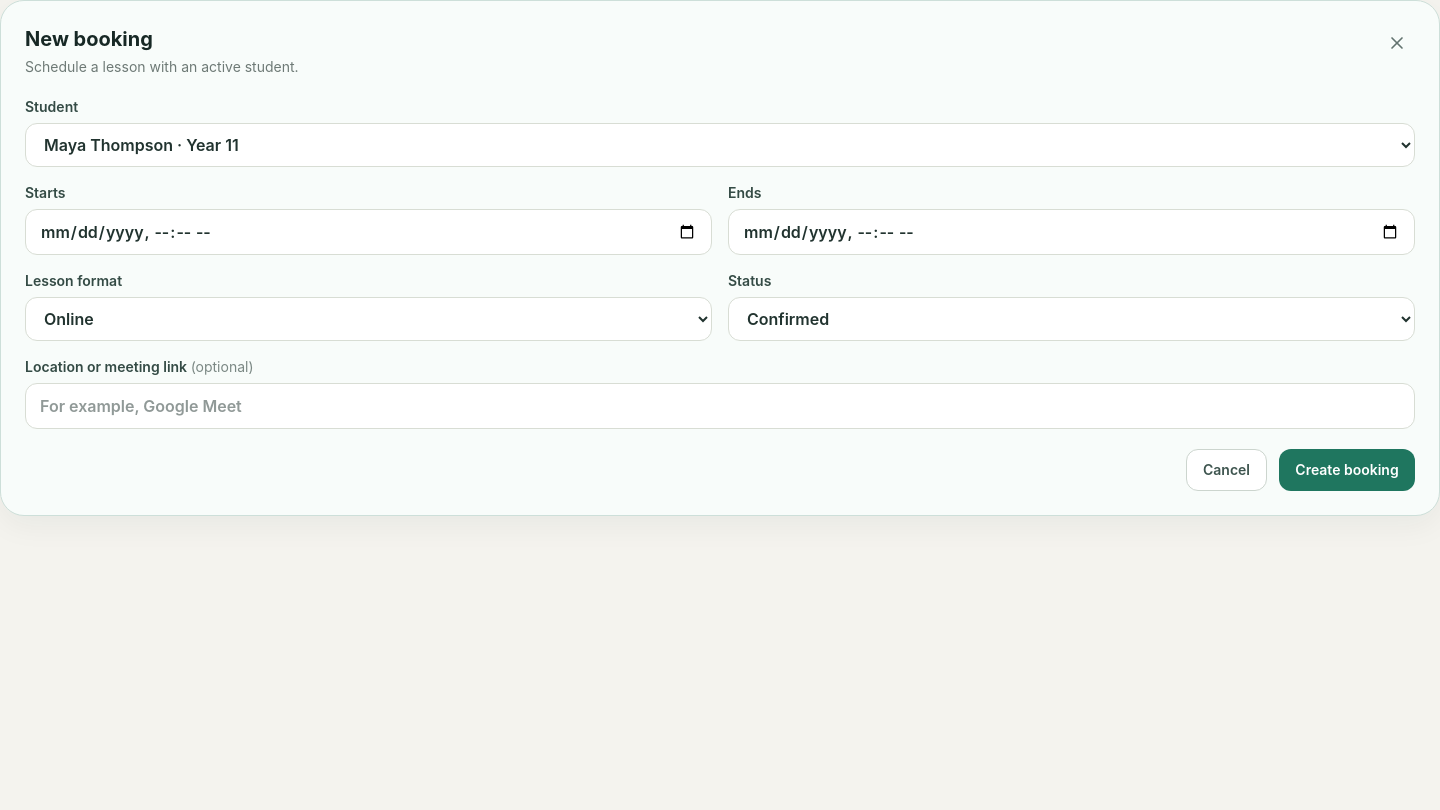
Test: rejects an end time that is not later than the start time
This screenshot has width=1440, height=810.
Type "2026-09-12T17:00" into the field labelled "Starts" at (368,232), box [25,209,712,255]
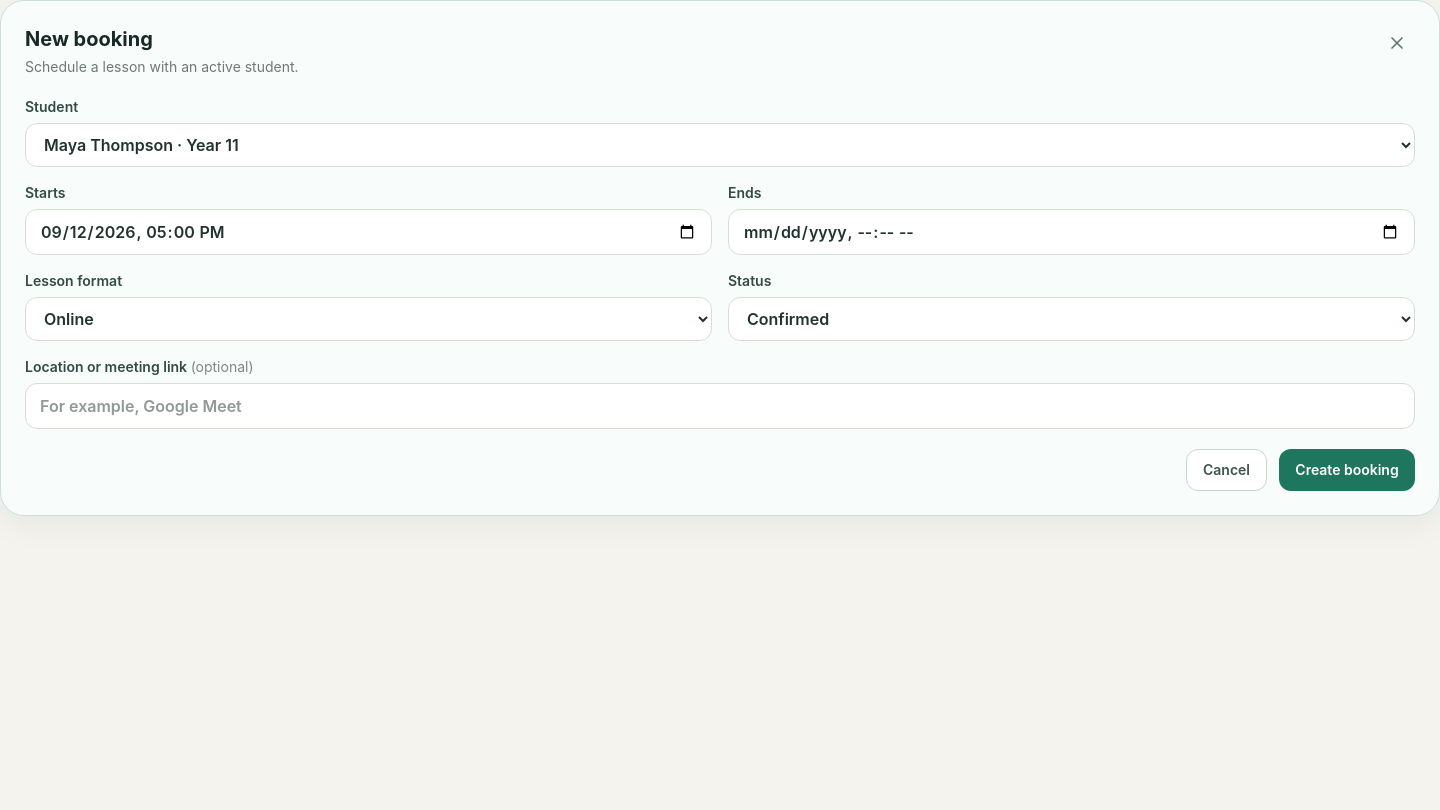
Type "2026-09-12T16:00" into the field labelled "Ends" at (1072,232), box [728,209,1415,255]
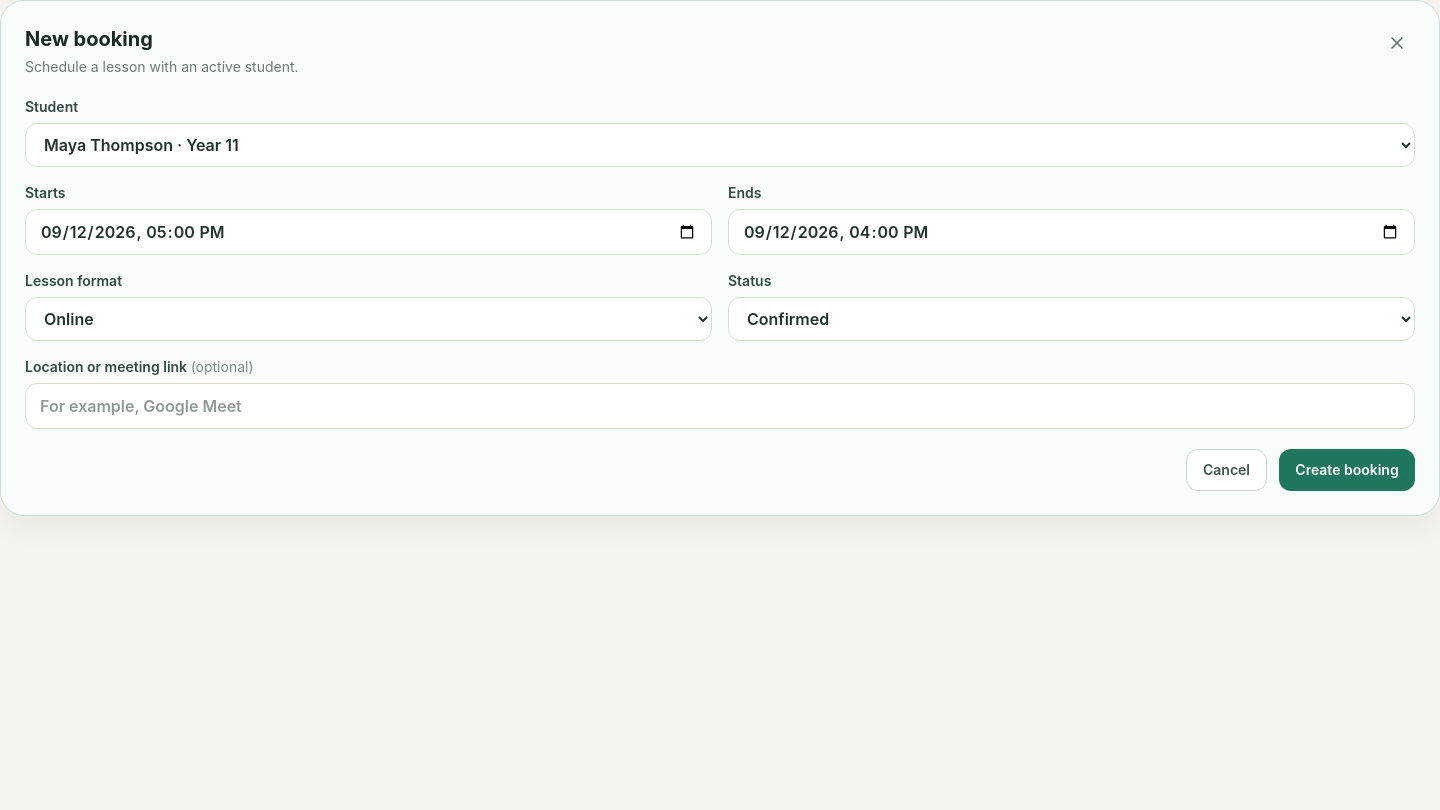
Click the button "Create booking" at (1347,470), box [1279,449,1415,491]
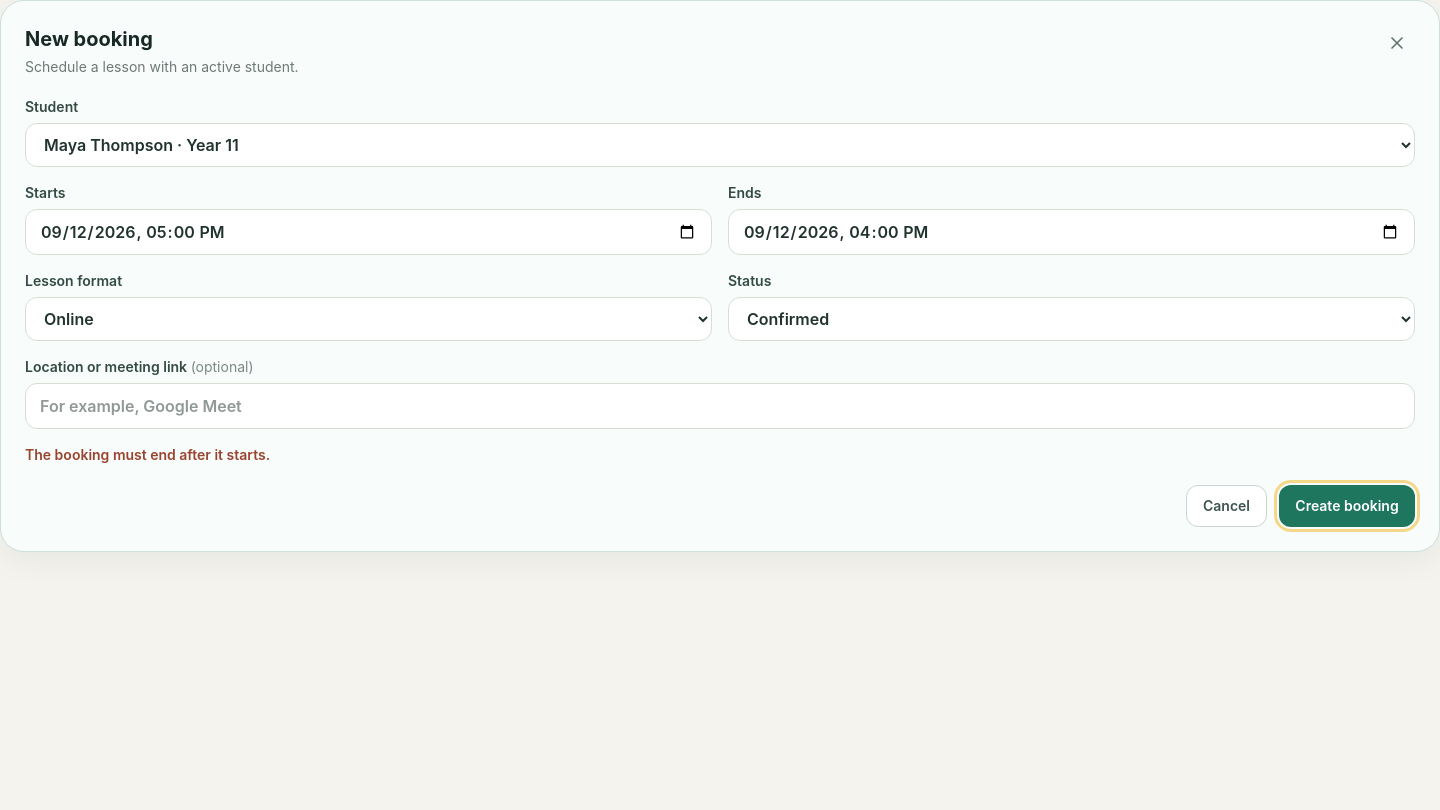
Now the message shows "must end after it starts", box [25,446,270,463]
